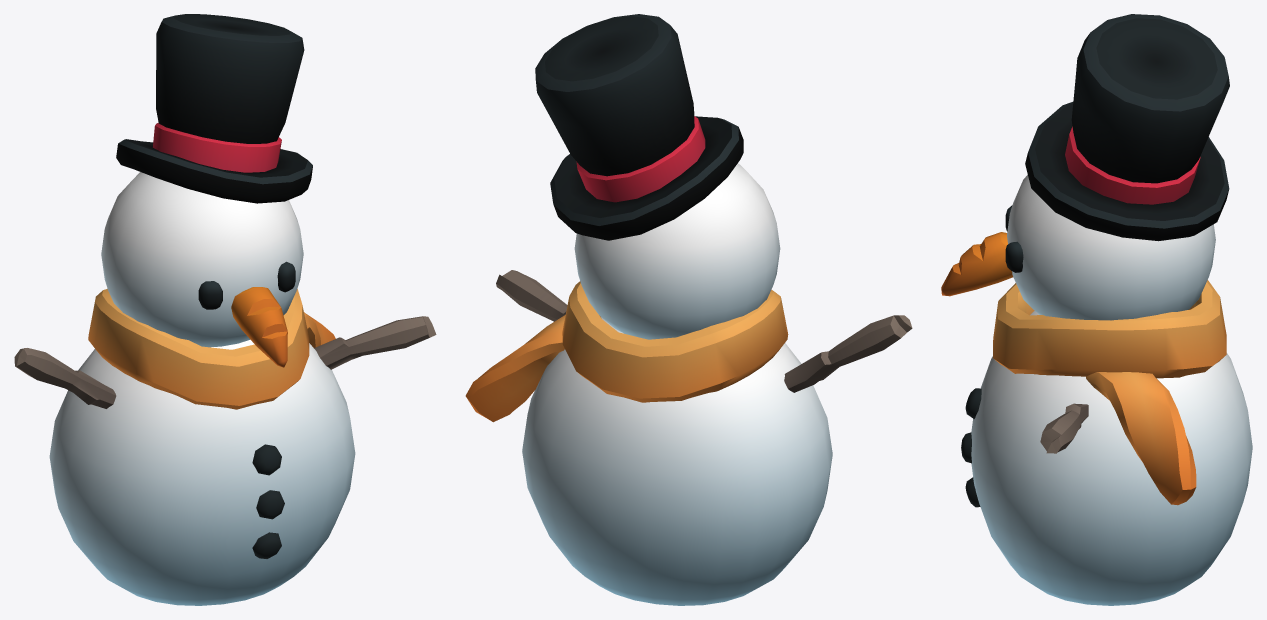
The model's file is snowman_B.fbx.
3 views of the same model, side by side, from view 1: azimuth 30°, elevation 25°; view 2: azimuth 150°, elevation 25°; view 3: azimuth 270°, elevation 25° (orthographic). The views are drawn at different scales.
Parts seen in each view (by area): view 1: snowman_B; view 2: snowman_B; view 3: snowman_B.
Part boxes in pixels (x1,y1,x2,y2): snowman_B: (14,14,436,605); snowman_B: (465,14,912,605); snowman_B: (941,14,1252,605).
Size of the model in its own units: 217 by 270 by 137.
